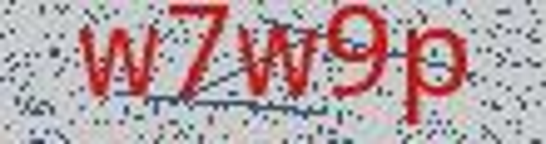7: (165, 1, 232, 101)
9: (323, 3, 392, 106)
p: (398, 14, 478, 133)
w: (74, 14, 164, 112), (235, 14, 321, 110)
